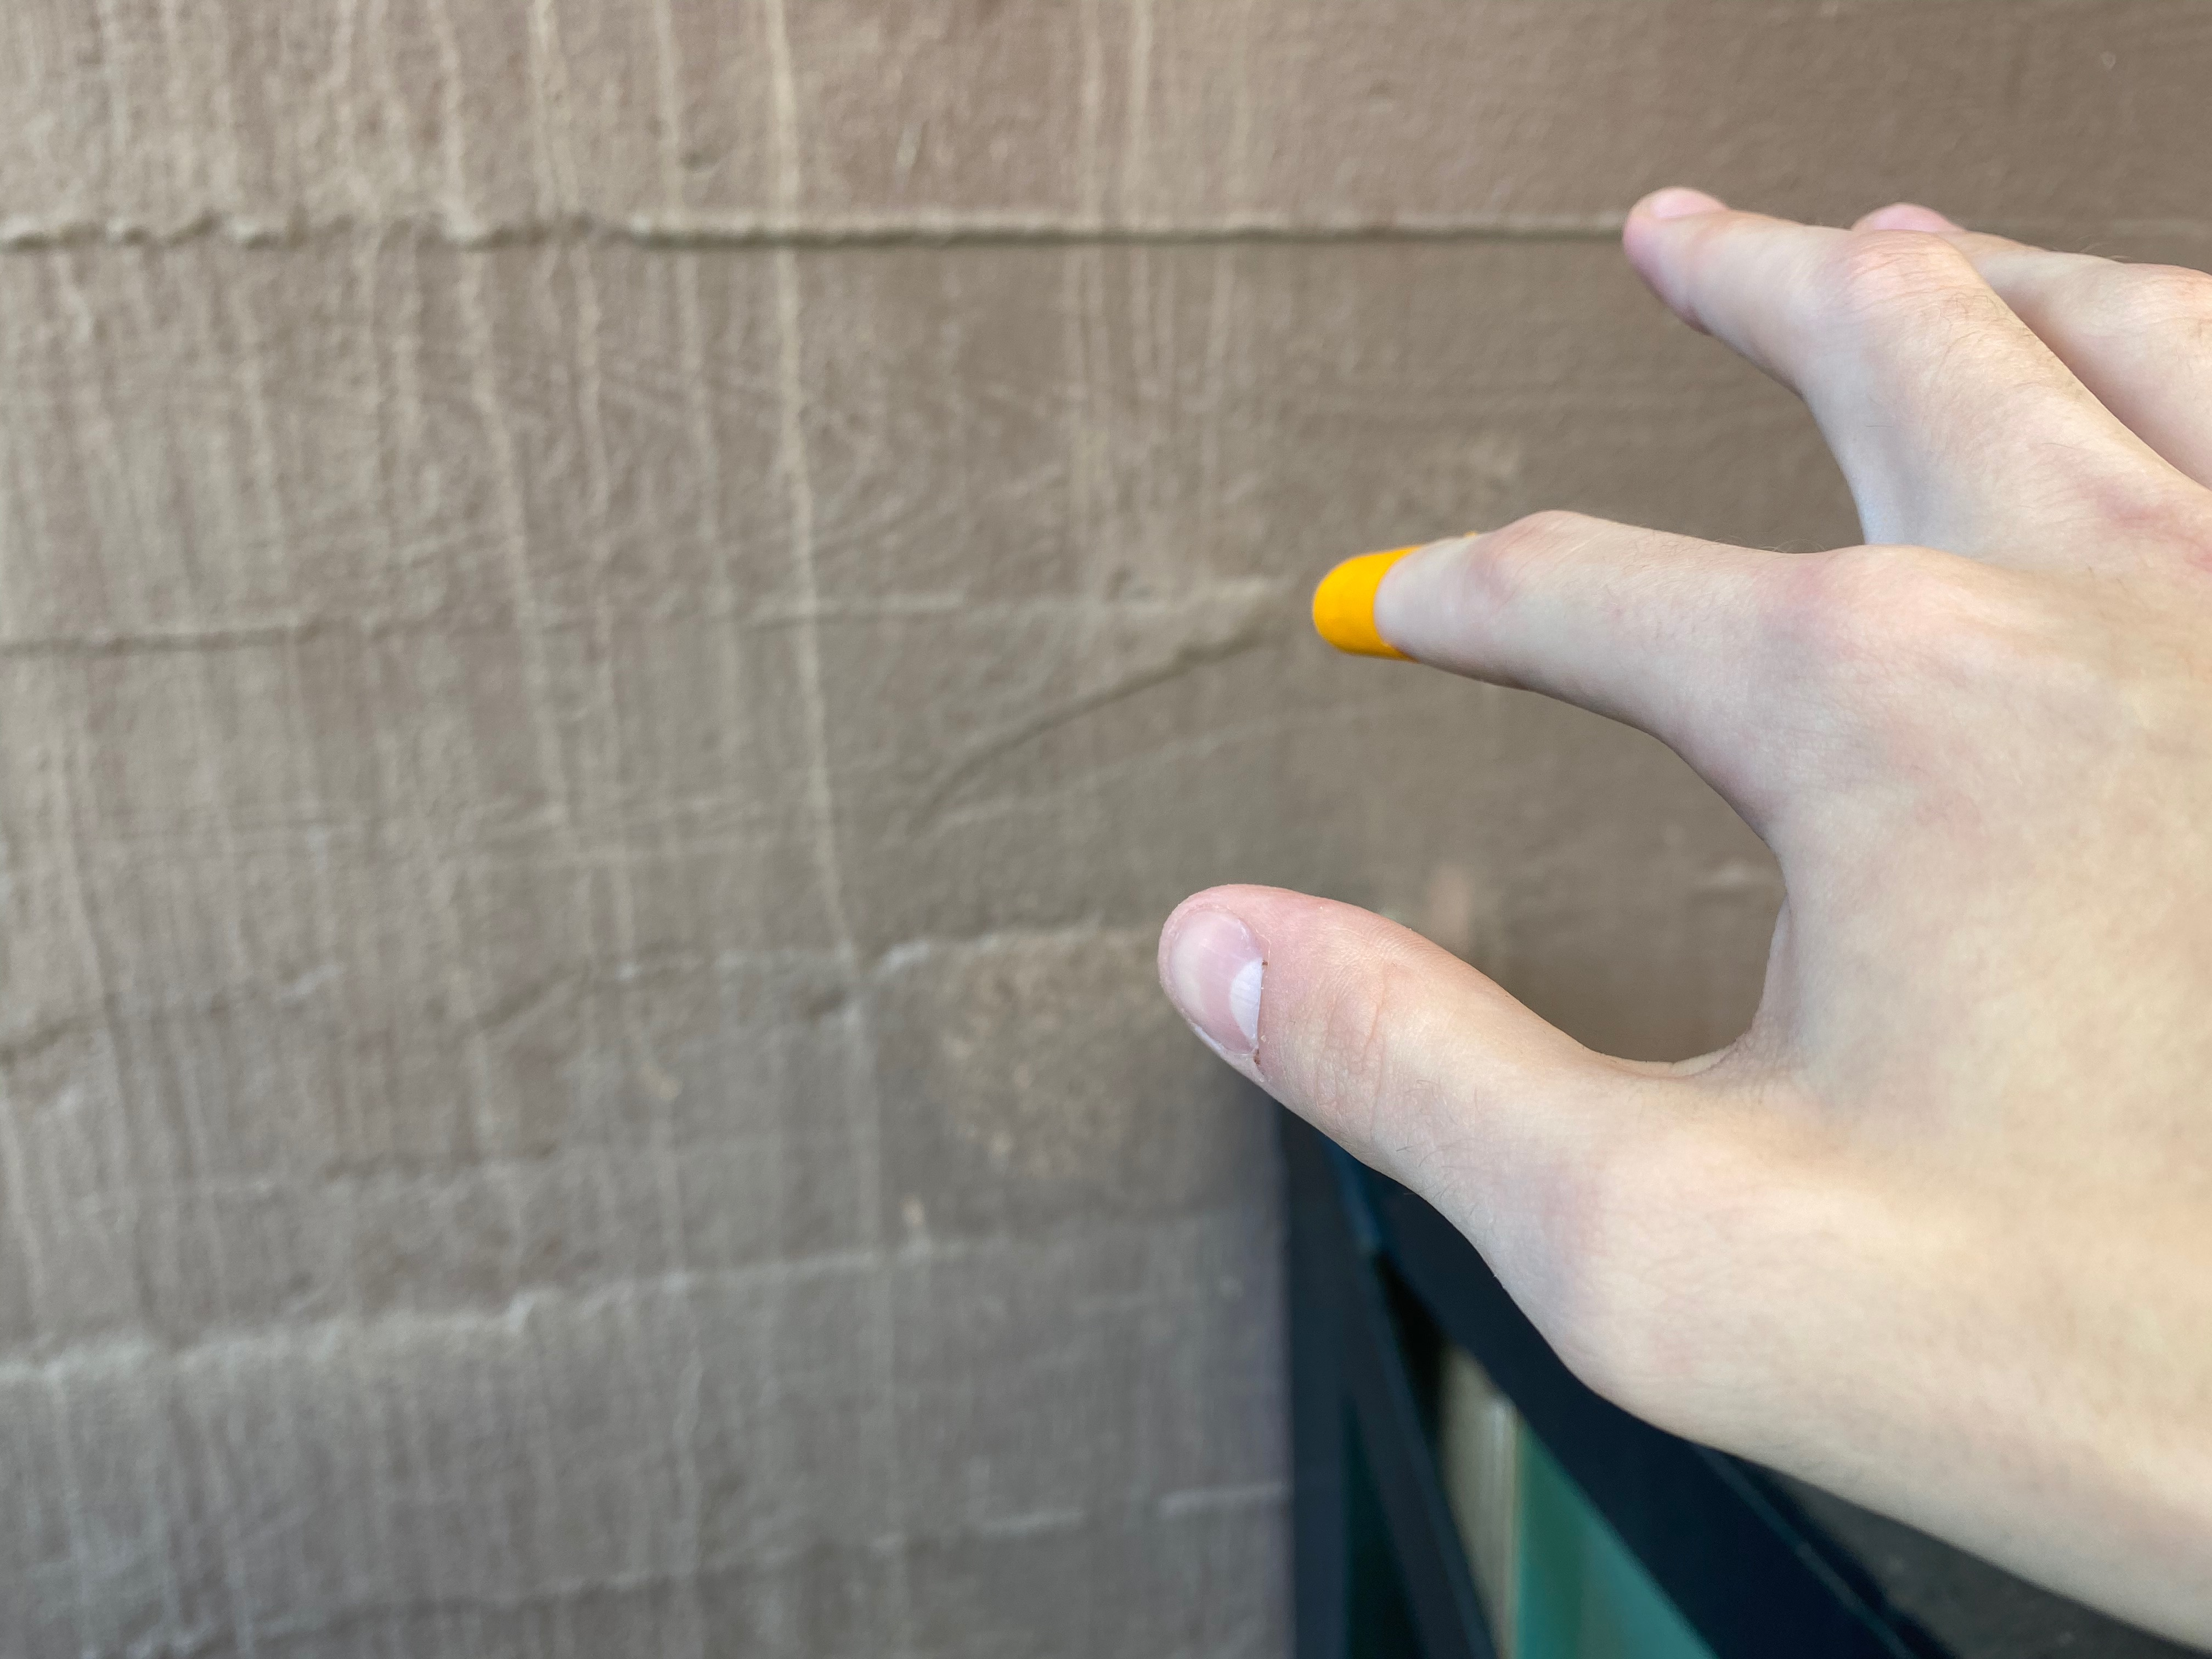fingertip: (1298, 528, 1449, 678)
